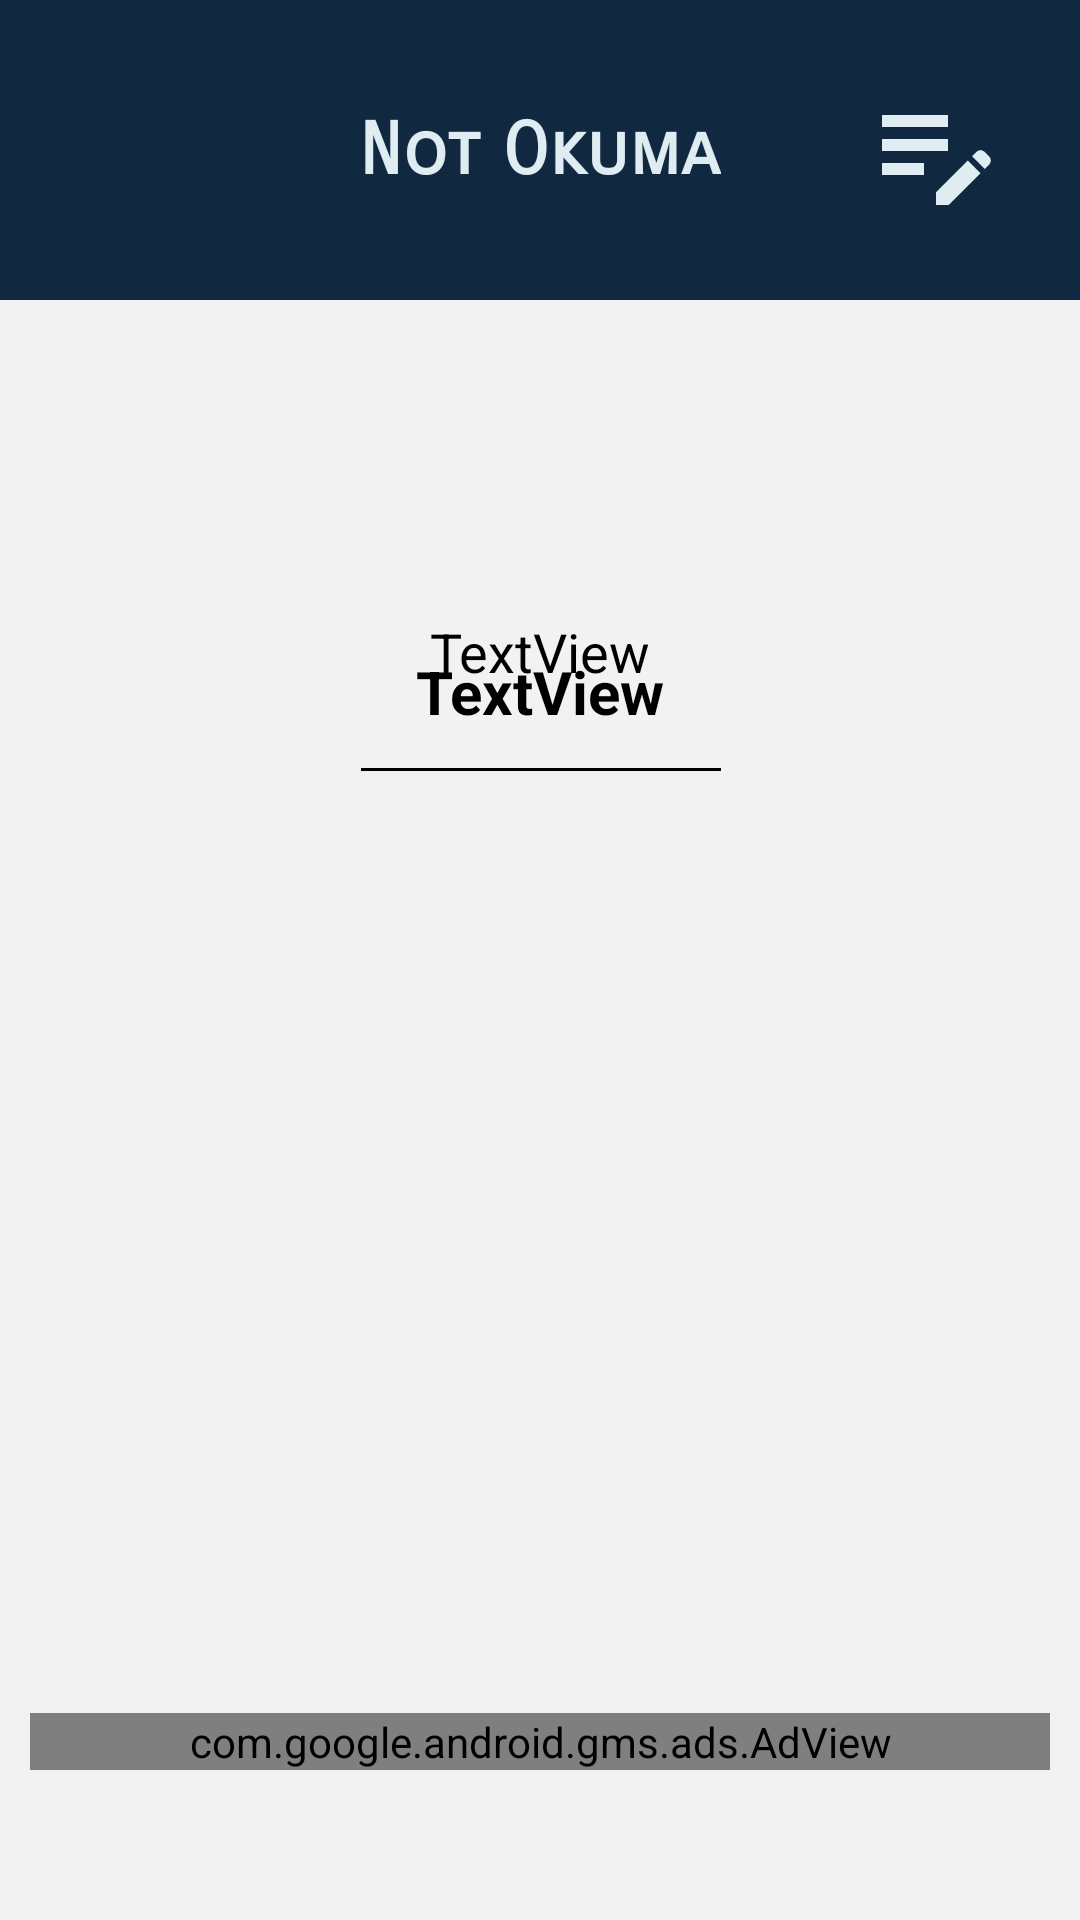

Icon click points for this 1080 x 1920 phone screenshot, format (x,y):
edit note: (936,160)
